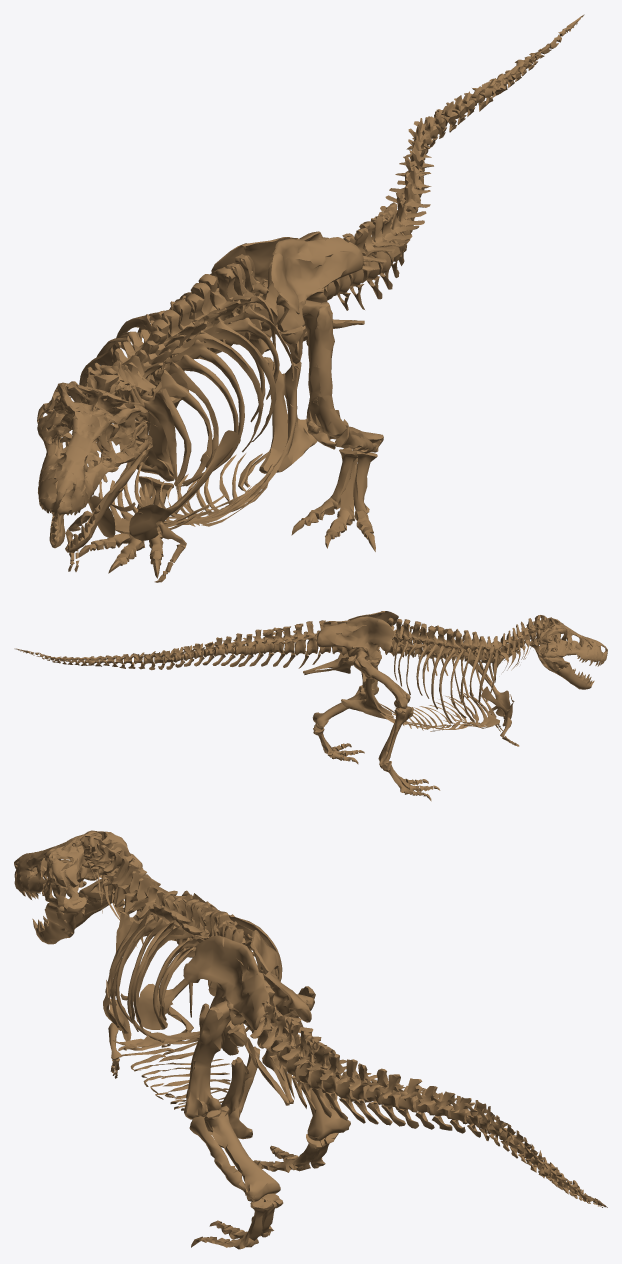
File: field-sue-pr2081.glb
The picture shows the model from 3 angles, top to bottom: view 1: azimuth 30°, elevation 25°; view 2: azimuth 150°, elevation 25°; view 3: azimuth 270°, elevation 25°; orthographic projection. The views are drawn at different scales.
Parts seen in each view (by area): view 1: Object_3, Object_11, Object_9, Object_6, Object_5, Object_7, Object_4, Object_8, Object_10, Object_2; view 2: Object_11, Object_3, Object_6, Object_4, Object_10, Object_7, Object_9, Object_8, Object_5, Object_2; view 3: Object_3, Object_11, Object_10, Object_6, Object_5, Object_9, Object_4, Object_7, Object_8, Object_2.
Boxes of the visible parts, x1,y1,x2,y2 form: Object_3: [47, 145, 428, 582]; Object_11: [98, 26, 573, 534]; Object_9: [37, 381, 149, 515]; Object_6: [128, 14, 584, 524]; Object_5: [65, 23, 577, 571]; Object_7: [80, 91, 475, 523]; Object_4: [78, 118, 430, 578]; Object_8: [112, 86, 483, 519]; Object_10: [167, 156, 431, 518]; Object_2: [97, 309, 265, 486]; Object_11: [23, 611, 499, 729]; Object_3: [158, 640, 594, 792]; Object_6: [14, 620, 488, 729]; Object_4: [163, 621, 534, 801]; Object_10: [194, 626, 478, 722]; Object_7: [112, 619, 551, 728]; Object_9: [534, 617, 607, 666]; Object_8: [106, 617, 480, 729]; Object_5: [20, 615, 548, 746]; Object_2: [416, 629, 469, 723]; Object_3: [32, 878, 489, 1249]; Object_11: [112, 930, 601, 1206]; Object_10: [120, 1027, 434, 1129]; Object_6: [110, 897, 607, 1207]; Object_5: [80, 834, 602, 1207]; Object_9: [14, 830, 142, 907]; Object_4: [96, 850, 488, 1172]; Object_7: [82, 864, 531, 1165]; Object_8: [159, 904, 538, 1163]; Object_2: [115, 907, 252, 1042].
Bounding box in the file's own units: 11.15 × 3.83 × 7.42.
